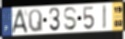3: (48, 7, 62, 33)
5: (83, 6, 95, 31)
A: (11, 8, 29, 35)
I: (102, 4, 107, 31)
Q: (28, 8, 44, 33)
S: (63, 7, 79, 32)
